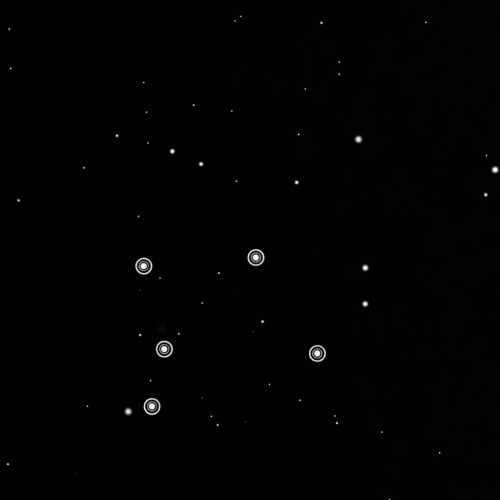libra: (125, 241, 332, 424)
